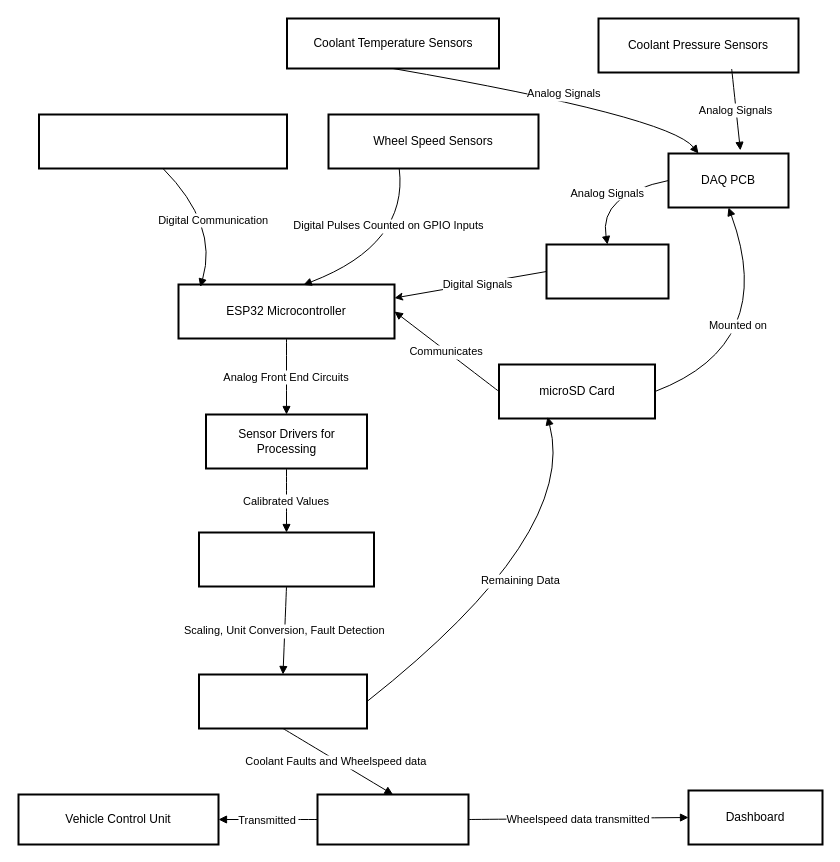
The diagram is 840 pixels wide and 862 high, and some of its shapes have lost their labels. Each missing label, with the centre of its shape:
ADS1115 ADC: the point at 607,271
CAN Message: the point at 392,819
ESP32 Firmware: the point at 286,559
Inertial Measurement Unit: the point at 163,141
Processed Data: the point at 283,701
